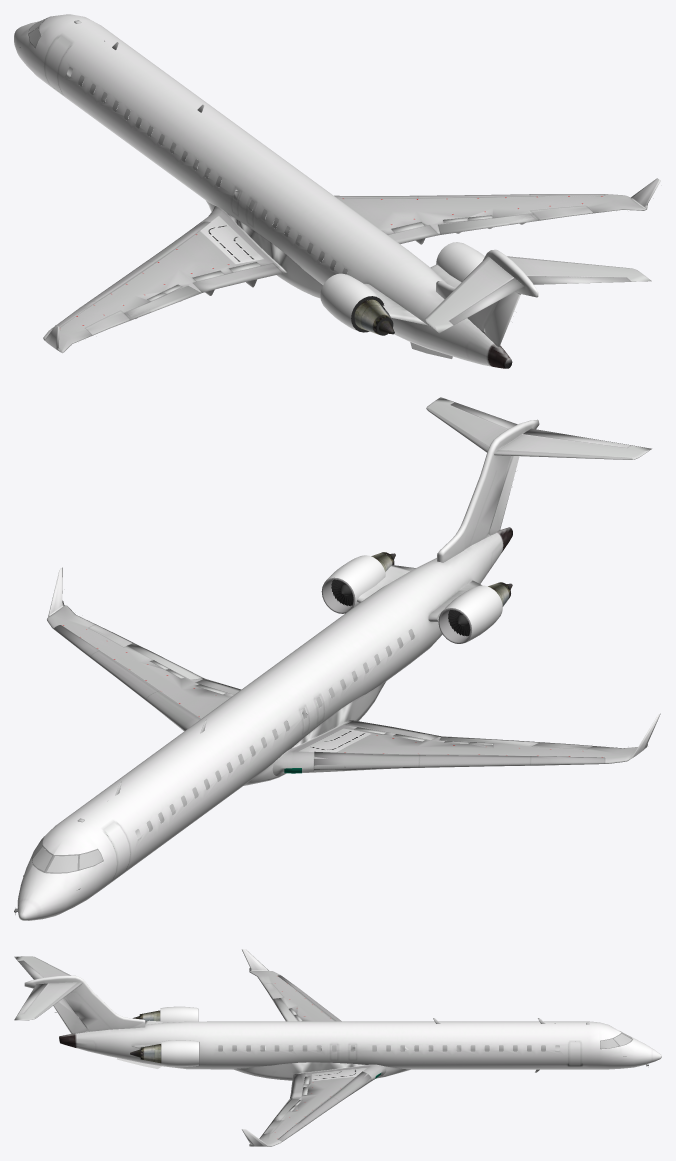
File: CRJ9.glb
3 views of the same model, one above another, from view 1: azimuth 30°, elevation 25°; view 2: azimuth 150°, elevation 25°; view 3: azimuth 270°, elevation 25° (orthographic). The views are drawn at different scales.
Visible parts, largest first — view 1: CockpitFrame, Reverser_001, CockpitWindows, Nozzle_001; view 2: CockpitFrame, Reverser_001, CockpitWindows, Nozzle_001; view 3: CockpitFrame, Reverser_001, CockpitWindows, Nozzle_001.
Part boxes in pixels (box(x1,y1,x2,y2)): CockpitFrame: box(14, 14, 660, 368); Reverser_001: box(320, 242, 484, 331); CockpitWindows: box(29, 18, 347, 274); Nozzle_001: box(354, 299, 394, 334); CockpitFrame: box(17, 397, 660, 920); Reverser_001: box(324, 555, 502, 643); CockpitWindows: box(32, 629, 414, 872); Nozzle_001: box(321, 552, 512, 643); CockpitFrame: box(14, 949, 661, 1146); Reverser_001: box(160, 1006, 198, 1066); CockpitWindows: box(218, 1031, 631, 1051); Nozzle_001: box(130, 1009, 199, 1065).
Size of the model in its own units: 23.91 by 6.09 by 36.36.
Materials: 8 (3 with a texture image).
